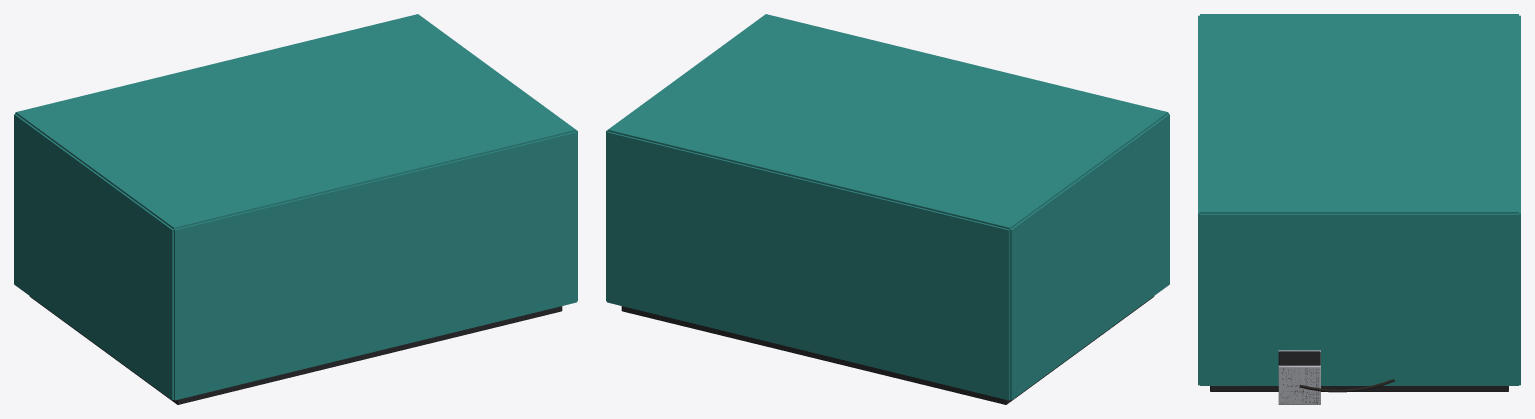
The model's file is banc.glb.
The picture shows the model from 3 angles, left to right: view 1: azimuth 30°, elevation 25°; view 2: azimuth 150°, elevation 25°; view 3: azimuth 270°, elevation 25°; orthographic projection.
Parts seen in each view (by area): view 1: capot_avant, capot_dessus, capot_gauche, breadboard; view 2: capot_arriere, capot_dessus, capot_gauche, breadboard; view 3: capot_dessus, capot_droit, moteur_flasque_2, breadboard, moteur_nema17, capot_arriere, capot_avant, cable_moteur.
Part boxes in pixels (left/top/right/bottom): capot_avant: left=174, top=131, right=576, bottom=400; capot_dessus: left=15, top=14, right=576, bottom=229; capot_gauche: left=14, top=114, right=173, bottom=400; breadboard: left=29, top=296, right=562, bottom=404; capot_arriere: left=607, top=131, right=1009, bottom=400; capot_dessus: left=607, top=14, right=1168, bottom=229; capot_gauche: left=1010, top=114, right=1169, bottom=400; breadboard: left=621, top=296, right=1154, bottom=404; capot_dessus: left=1200, top=14, right=1518, bottom=213; capot_droit: left=1200, top=213, right=1518, bottom=385; moteur_flasque_2: left=1278, top=365, right=1320, bottom=404; breadboard: left=1210, top=386, right=1508, bottom=391; moteur_nema17: left=1278, top=351, right=1320, bottom=403; capot_arriere: left=1519, top=15, right=1520, bottom=385; capot_avant: left=1198, top=15, right=1199, bottom=385; cable_moteur: left=1299, top=379, right=1394, bottom=392.
Bounding box in the file's own units: 515 × 205 × 324.
